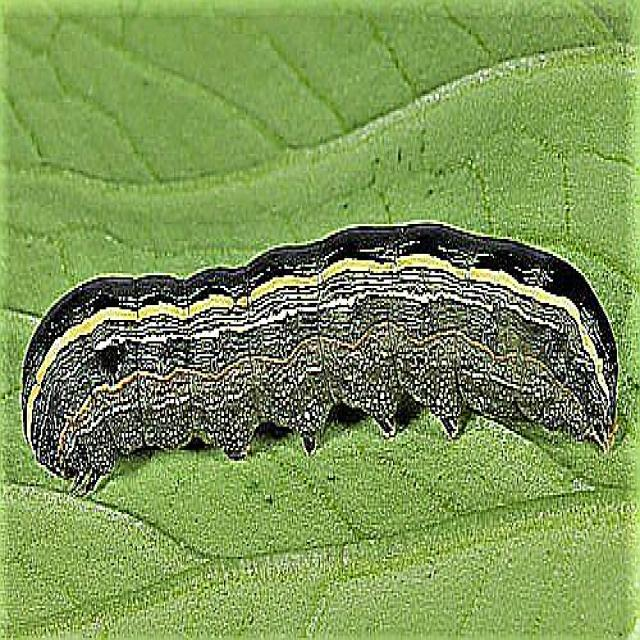Armyworm: (16, 216, 635, 540)
